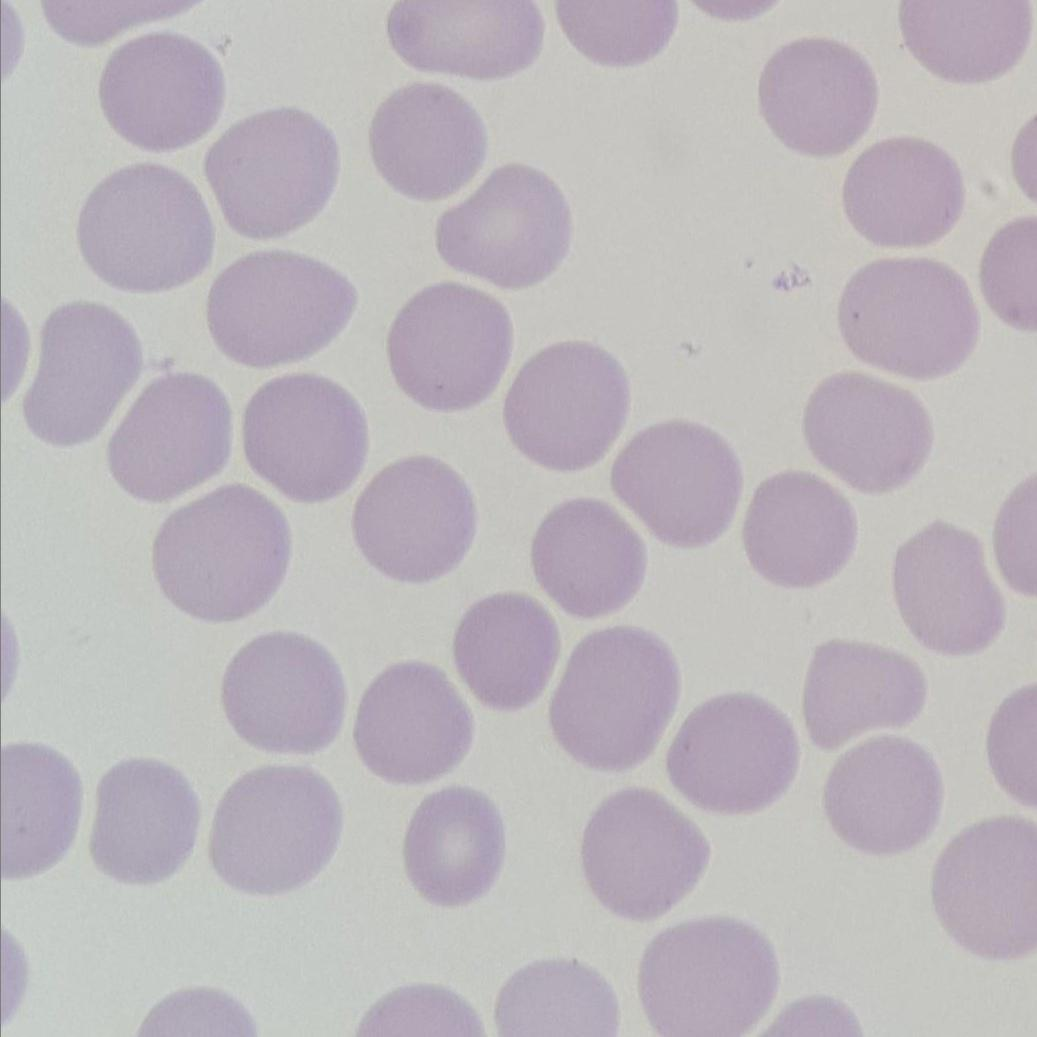Uninfected: (153, 486, 289, 624), (549, 627, 679, 769), (79, 165, 217, 293), (208, 766, 343, 896), (204, 107, 341, 234), (206, 250, 355, 366), (23, 302, 140, 445), (579, 788, 706, 918), (386, 282, 515, 408), (612, 419, 742, 544), (351, 455, 478, 582), (434, 165, 567, 286), (241, 374, 367, 501), (221, 631, 347, 757), (109, 374, 233, 502), (840, 260, 973, 379), (505, 341, 629, 468), (639, 921, 776, 1035), (668, 694, 796, 815), (805, 372, 933, 491), (350, 662, 472, 783), (930, 820, 1036, 957), (892, 524, 1002, 656), (101, 34, 225, 150), (823, 736, 942, 855), (90, 758, 201, 885), (367, 85, 486, 198), (803, 638, 924, 749), (759, 39, 875, 153), (531, 501, 644, 618), (742, 472, 855, 589), (450, 592, 559, 710), (845, 139, 962, 245), (401, 787, 506, 905)
